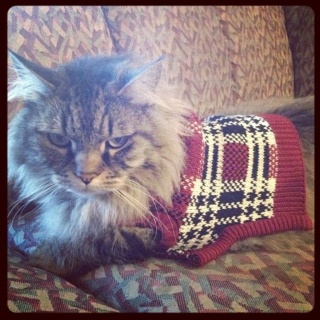Cat: (0, 47, 316, 268)
